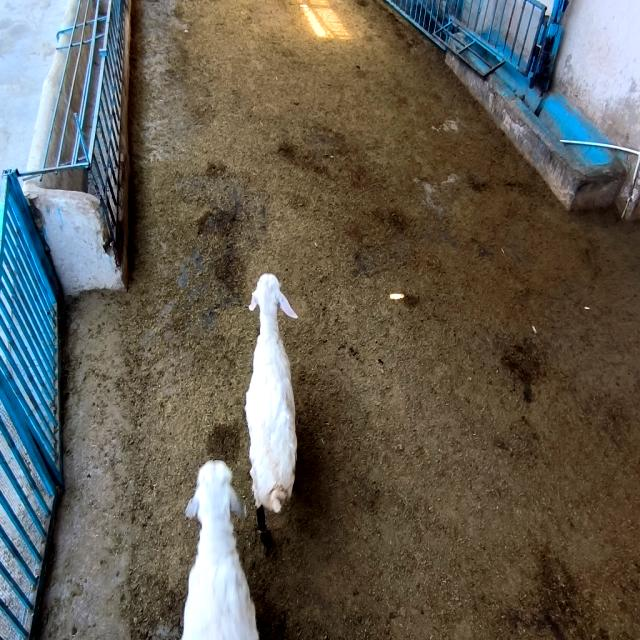sheep: (182, 462, 259, 640), (245, 273, 298, 511)
